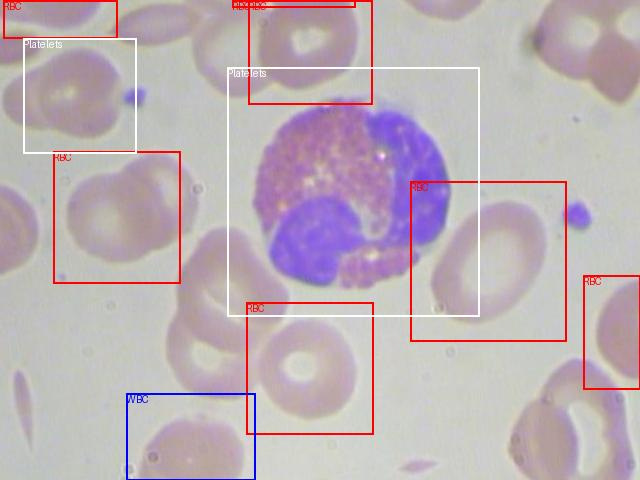Platelets: (227, 67, 479, 316), (23, 38, 136, 153)
RBC: (410, 181, 566, 341), (246, 302, 373, 434), (53, 151, 180, 283), (248, 0, 372, 104), (583, 275, 640, 389), (3, 0, 117, 38), (232, 0, 355, 7)
WBC: (126, 393, 255, 480)
